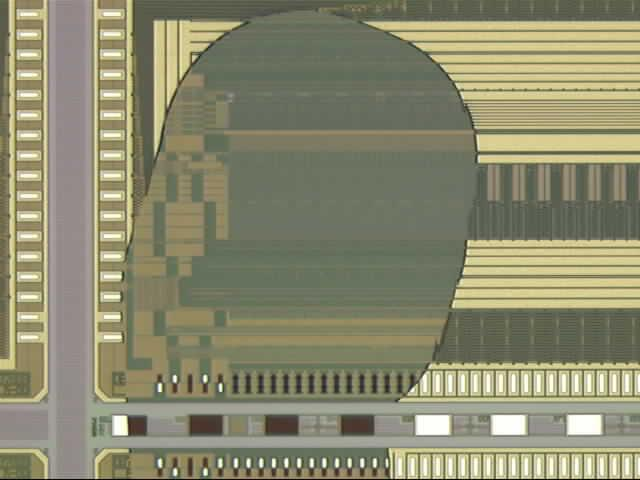COATING BAD: (119, 10, 482, 480)
